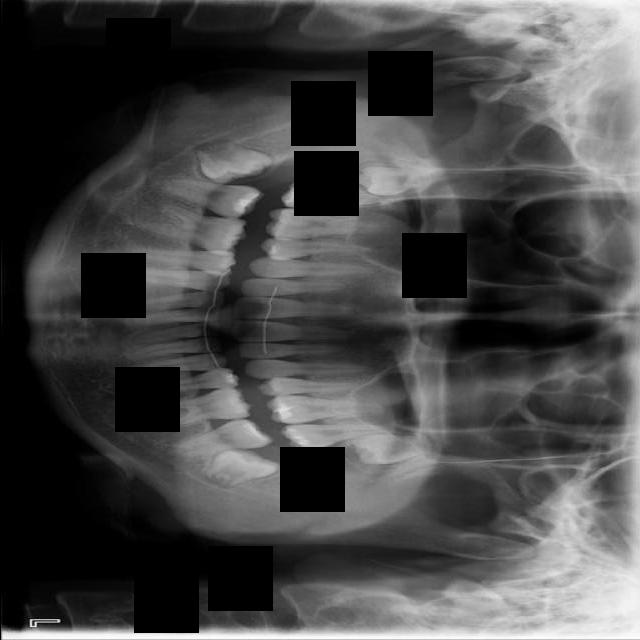3M ESPE Implant: (351, 164, 431, 199)
52: (215, 418, 273, 450), (210, 185, 262, 220), (279, 422, 335, 451), (265, 394, 318, 424), (280, 181, 330, 208), (200, 366, 239, 392)
73: (44, 618, 62, 628)
BioHorizons Implant: (279, 423, 397, 451)
BioLife Implant: (350, 432, 426, 466)
Biomet 3i Implant: (198, 438, 280, 493)
Blue Sky Bio Implant: (167, 414, 274, 461)
Caries: (280, 181, 391, 208)
Implant: (158, 176, 264, 222)
Keystone Dental Implant: (195, 133, 273, 188)
